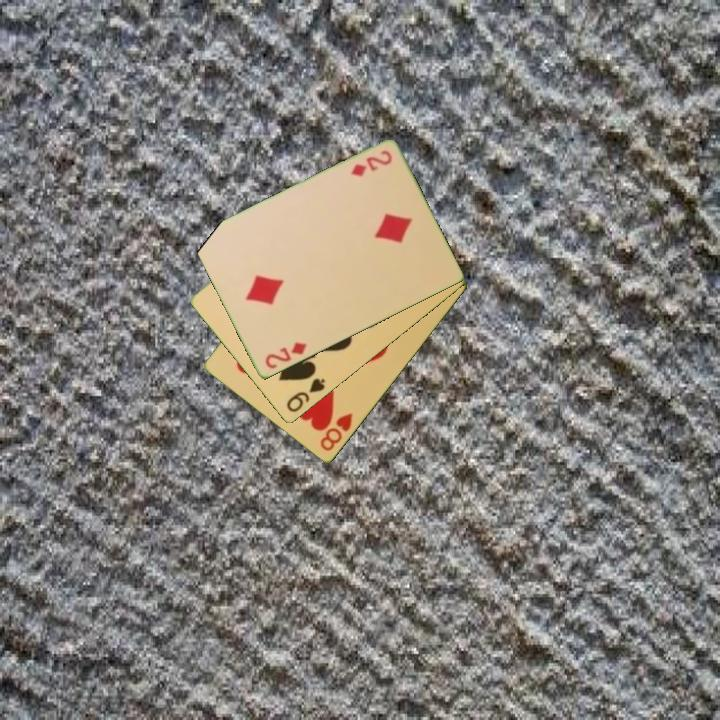2d: (261, 339, 309, 372), (347, 147, 395, 180)
8h: (316, 410, 356, 455)
9s: (283, 375, 328, 416)
